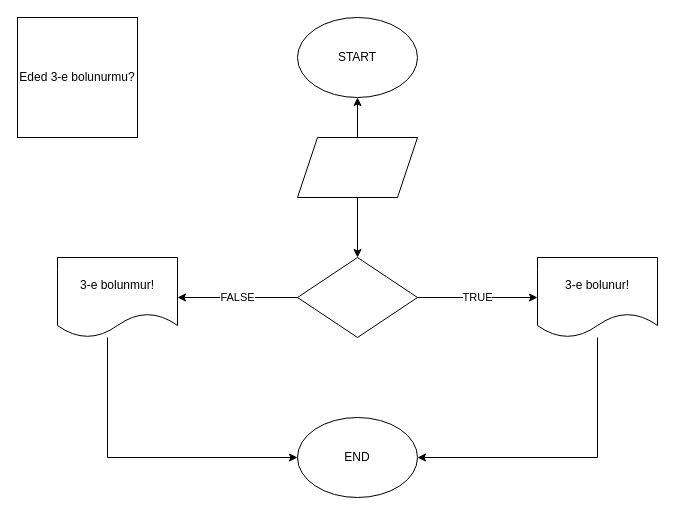
Some shapes in this 675 by 515 pixel diagram are drawn without their labels. Here are the shapes that lost their labels. From the top down, the centre of each, then its label:
At point 357,167: "number".
At point 357,297: "number %3 == 0".
